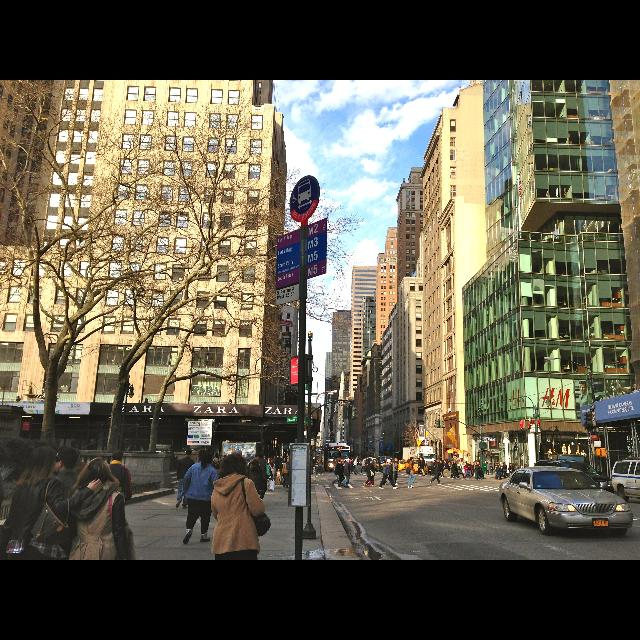head: (31, 446, 57, 474), (54, 446, 78, 472), (86, 459, 110, 483), (222, 454, 246, 476), (111, 450, 123, 462), (200, 451, 212, 463), (232, 450, 242, 460), (255, 452, 262, 460), (186, 449, 192, 457), (253, 459, 259, 466), (270, 459, 274, 463), (341, 460, 345, 464), (388, 459, 392, 463), (394, 458, 398, 462), (410, 457, 414, 461), (214, 458, 218, 462), (384, 460, 388, 464), (436, 458, 439, 462), (268, 458, 270, 464), (388, 461, 392, 464), (284, 457, 286, 461), (338, 460, 340, 464), (348, 458, 350, 462), (353, 458, 355, 462), (452, 462, 454, 466), (462, 462, 464, 466), (503, 462, 505, 466), (368, 456, 372, 458), (217, 452, 219, 456), (321, 456, 323, 459), (440, 461, 442, 464), (454, 461, 456, 464), (476, 464, 479, 466), (311, 456, 313, 458), (313, 458, 315, 460), (334, 458, 336, 460), (356, 458, 358, 460), (372, 462, 374, 464), (418, 458, 420, 460), (422, 458, 424, 460), (431, 462, 433, 464), (434, 460, 436, 462), (444, 460, 446, 462), (464, 463, 466, 465), (475, 463, 477, 465), (486, 462, 488, 464), (496, 465, 498, 467), (510, 464, 512, 466), (338, 458, 340, 460), (364, 458, 366, 460), (473, 463, 475, 465), (500, 462, 502, 464), (264, 456, 266, 458), (268, 454, 270, 456), (385, 458, 387, 460), (467, 462, 469, 464), (496, 464, 498, 466), (499, 464, 501, 466), (471, 462, 472, 464), (448, 460, 449, 462), (358, 458, 360, 458), (452, 462, 453, 462)
person: (180, 448, 220, 546), (100, 450, 134, 544), (220, 449, 256, 533), (174, 448, 196, 510), (254, 452, 276, 504), (248, 458, 268, 506), (379, 458, 399, 490), (278, 458, 292, 488), (363, 462, 377, 488), (429, 458, 443, 484), (268, 458, 280, 488), (331, 460, 343, 488), (406, 456, 416, 488), (276, 457, 288, 483), (341, 458, 351, 488), (336, 460, 346, 486), (347, 458, 358, 476), (441, 460, 452, 478), (212, 458, 220, 482), (472, 463, 482, 481), (392, 458, 398, 486), (316, 456, 324, 476), (449, 462, 459, 478), (364, 455, 372, 475), (452, 460, 460, 478), (388, 460, 394, 484), (382, 460, 388, 484), (380, 456, 388, 474), (476, 464, 486, 478), (266, 458, 272, 480), (460, 462, 468, 478), (462, 462, 470, 478), (495, 464, 503, 480), (360, 458, 368, 474), (308, 455, 314, 475), (420, 457, 426, 477), (508, 462, 514, 482), (418, 458, 424, 476), (438, 460, 444, 478), (494, 462, 500, 480), (431, 459, 437, 476), (331, 458, 337, 474), (354, 458, 360, 474), (502, 463, 508, 479), (502, 462, 508, 478), (262, 454, 268, 470), (465, 461, 471, 477), (215, 453, 221, 467), (266, 454, 272, 468), (336, 457, 340, 475), (312, 458, 316, 474), (450, 460, 454, 476), (472, 462, 476, 478), (430, 462, 434, 476), (486, 462, 490, 476), (499, 461, 503, 475), (469, 462, 473, 474), (498, 464, 502, 476), (357, 458, 361, 467), (448, 459, 450, 468)
